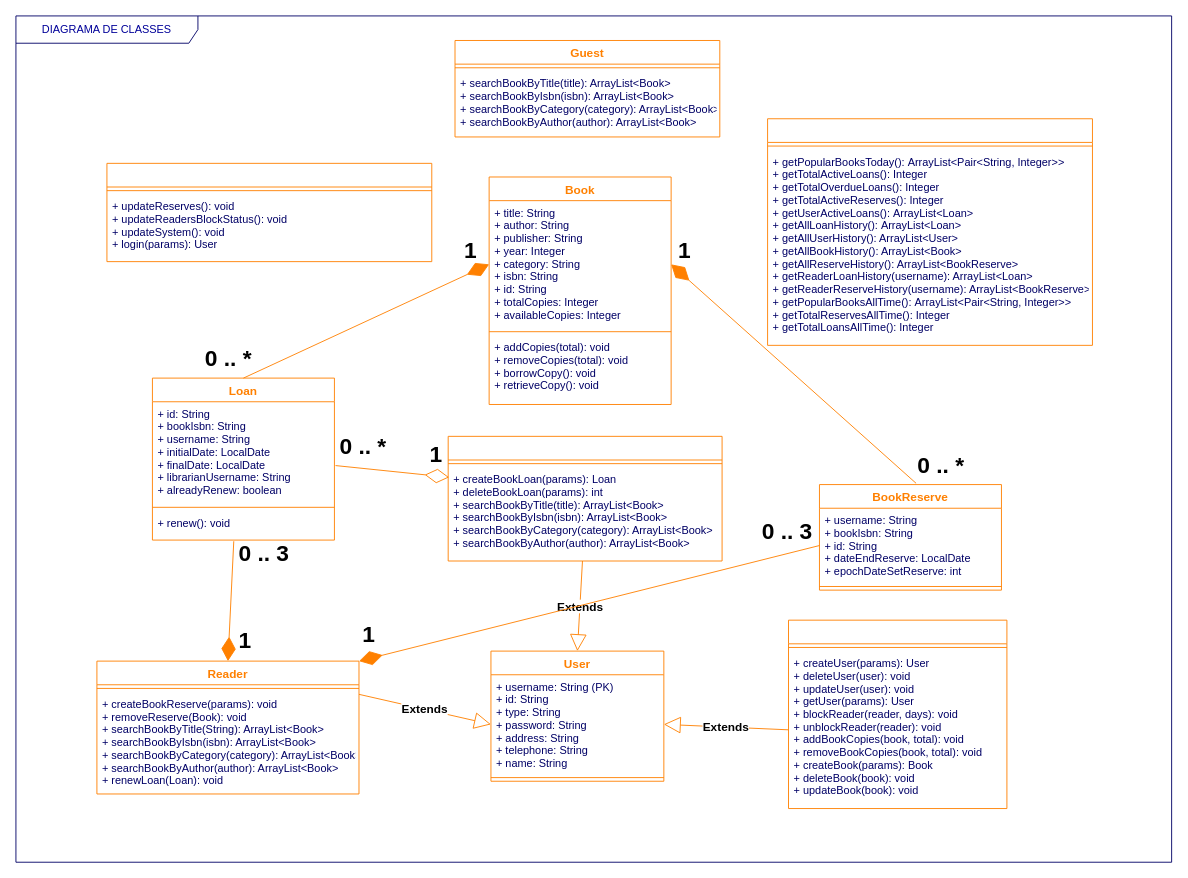
This 1188x878 diagram has some shape labels left out. The box of each missing label's shape, as (x1, y1, x2, y2) in pixels:
Admin: (788, 619, 1007, 809)
Librarian: (447, 435, 722, 561)
LocalSystem: (106, 162, 432, 262)
Report: (767, 118, 1092, 345)
